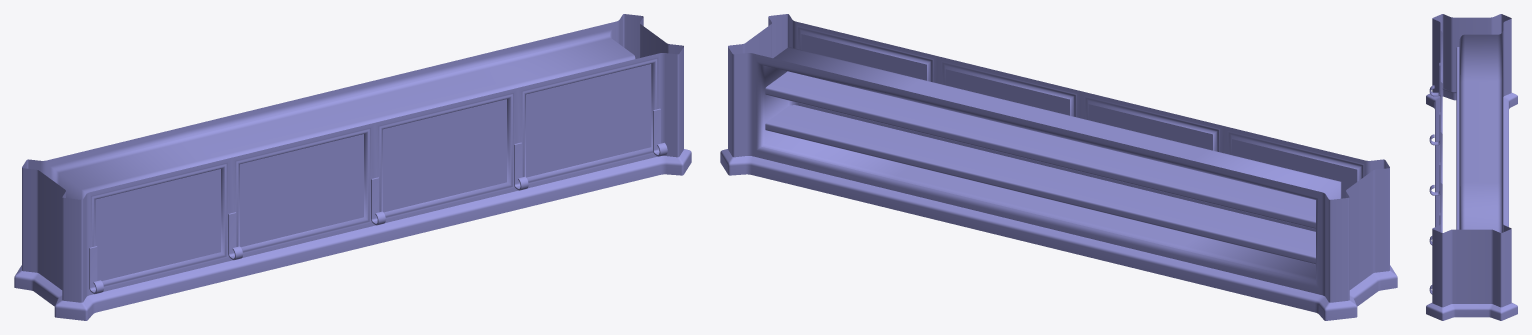
The model's file is BarBake_HP.FBX.
The picture shows the model from 3 angles, left to right: view 1: azimuth 30°, elevation 25°; view 2: azimuth 150°, elevation 25°; view 3: azimuth 270°, elevation 25°; orthographic projection. The views are drawn at different scales.
Parts seen in each view (by area): view 1: Bar_HP, Rodholder_HP; view 2: Bar_HP, BarPlank_HP; view 3: Bar_HP, BarPlank_HP, Rodholder_HP.
Part boxes in pixels (x1,y1,x2,y2): Bar_HP: (14,14,691,320); Rodholder_HP: (89,108,667,294); Bar_HP: (720,14,1397,320); BarPlank_HP: (765,71,1315,264); Bar_HP: (1426,14,1517,320); BarPlank_HP: (1456,47,1459,229); Rodholder_HP: (1429,63,1440,294).
Size of the model in its own units: 847 by 150 by 147.
